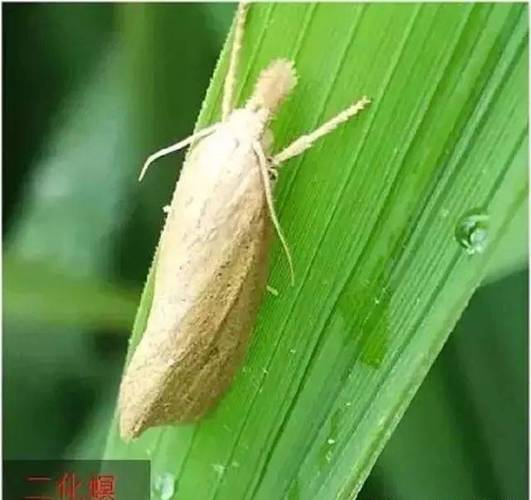Crambidae: (111, 3, 371, 445)
